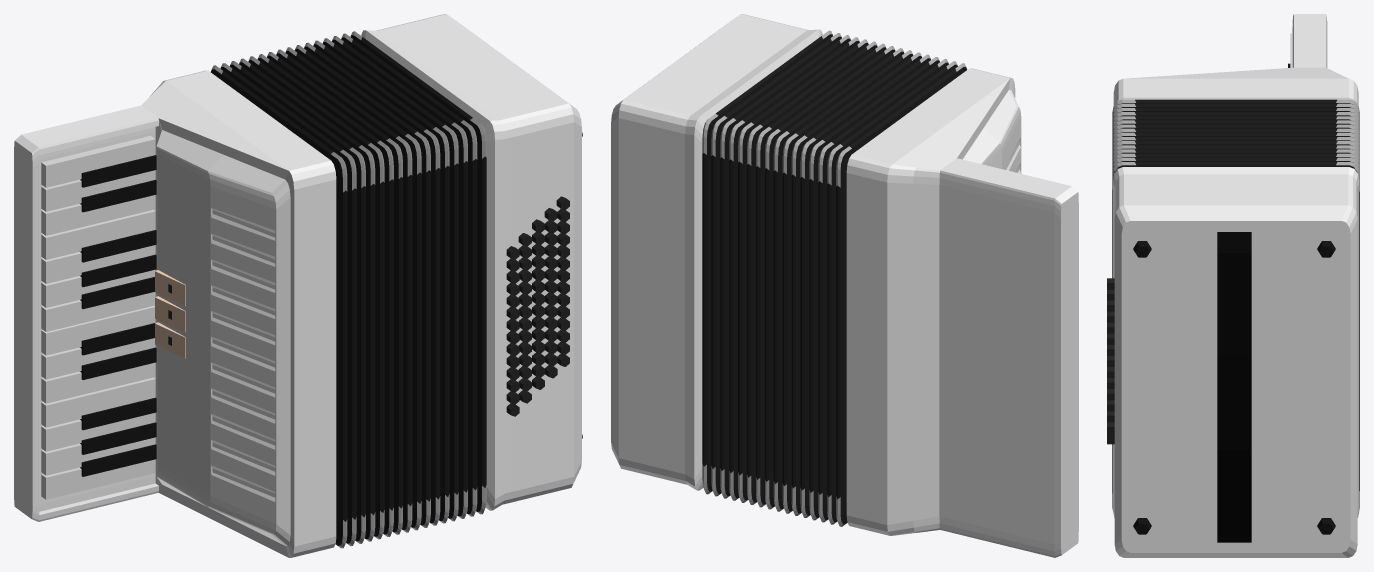
The model's file is Accordion04.fbx.
The picture shows the model from 3 angles, left to right: view 1: azimuth 30°, elevation 25°; view 2: azimuth 150°, elevation 25°; view 3: azimuth 270°, elevation 25°; orthographic projection. The views are drawn at different scales.
Visible parts, largest first — view 1: Cube.007; view 2: Cube.007; view 3: Cube.007.
Part boxes in pixels (box(x1,y1,x2,y2)): Cube.007: box(14, 14, 582, 557); Cube.007: box(611, 14, 1078, 557); Cube.007: box(1107, 14, 1359, 557).
Bounding box in the file's own units: 57.17 × 43.51 × 27.78.
